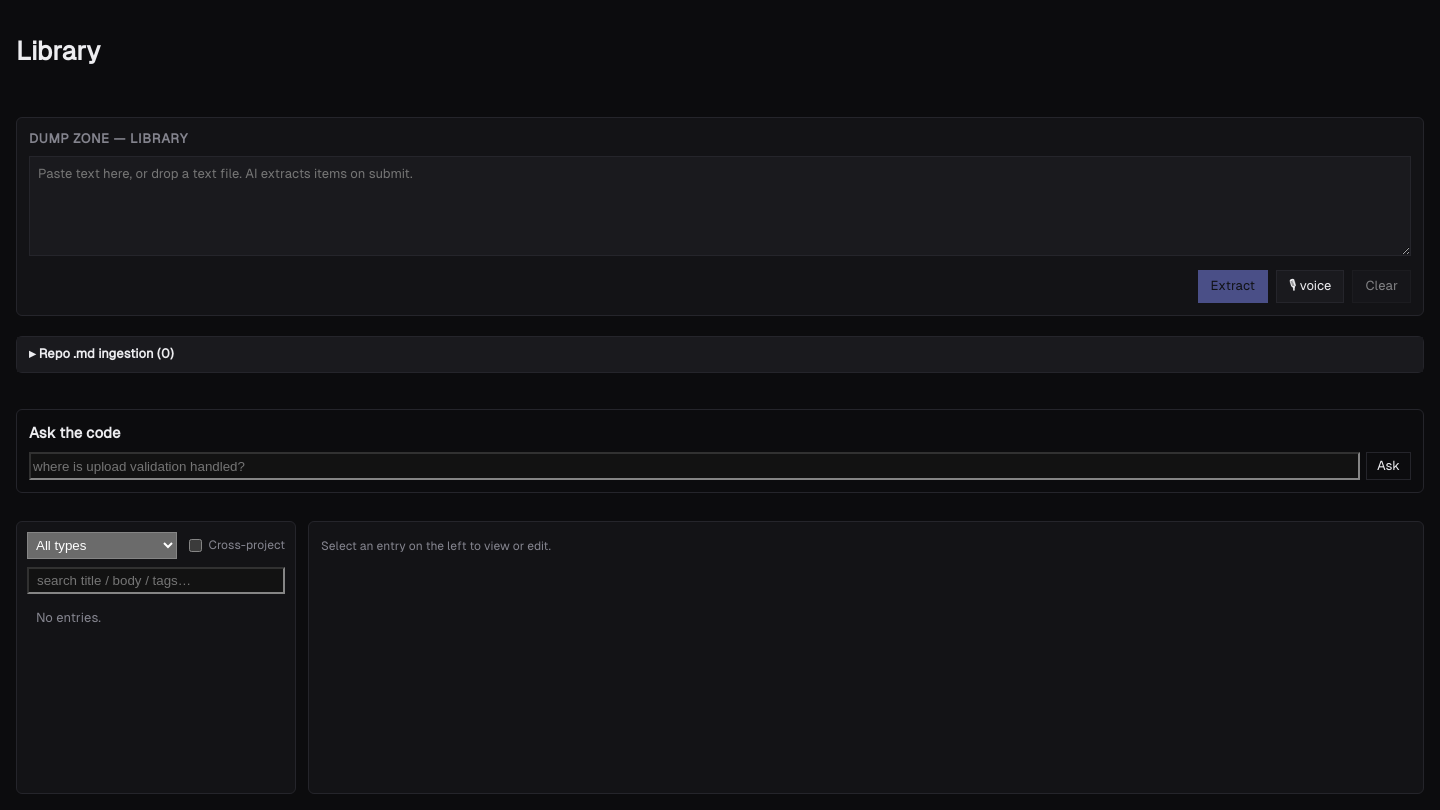
Test: MdFolderManager (Phase 6c) › rejects an out-of-repo folder add with an error message
Click the button with test id "md-folder-toggle" at (98, 354), box [17,337,1423,372]
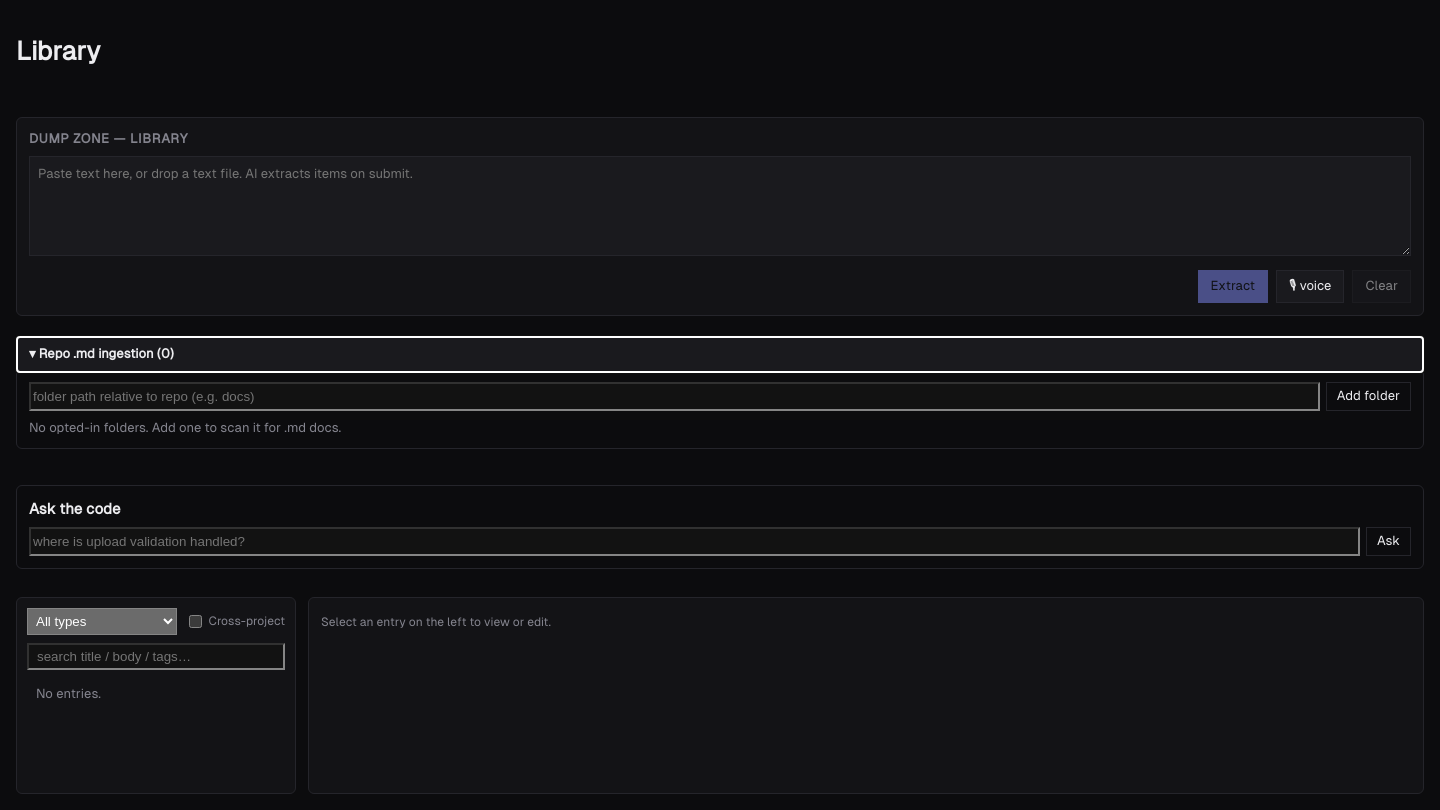
Type "../escape" into the field with test id "md-folder-path-input" at (674, 396), box [29,382,1320,411]
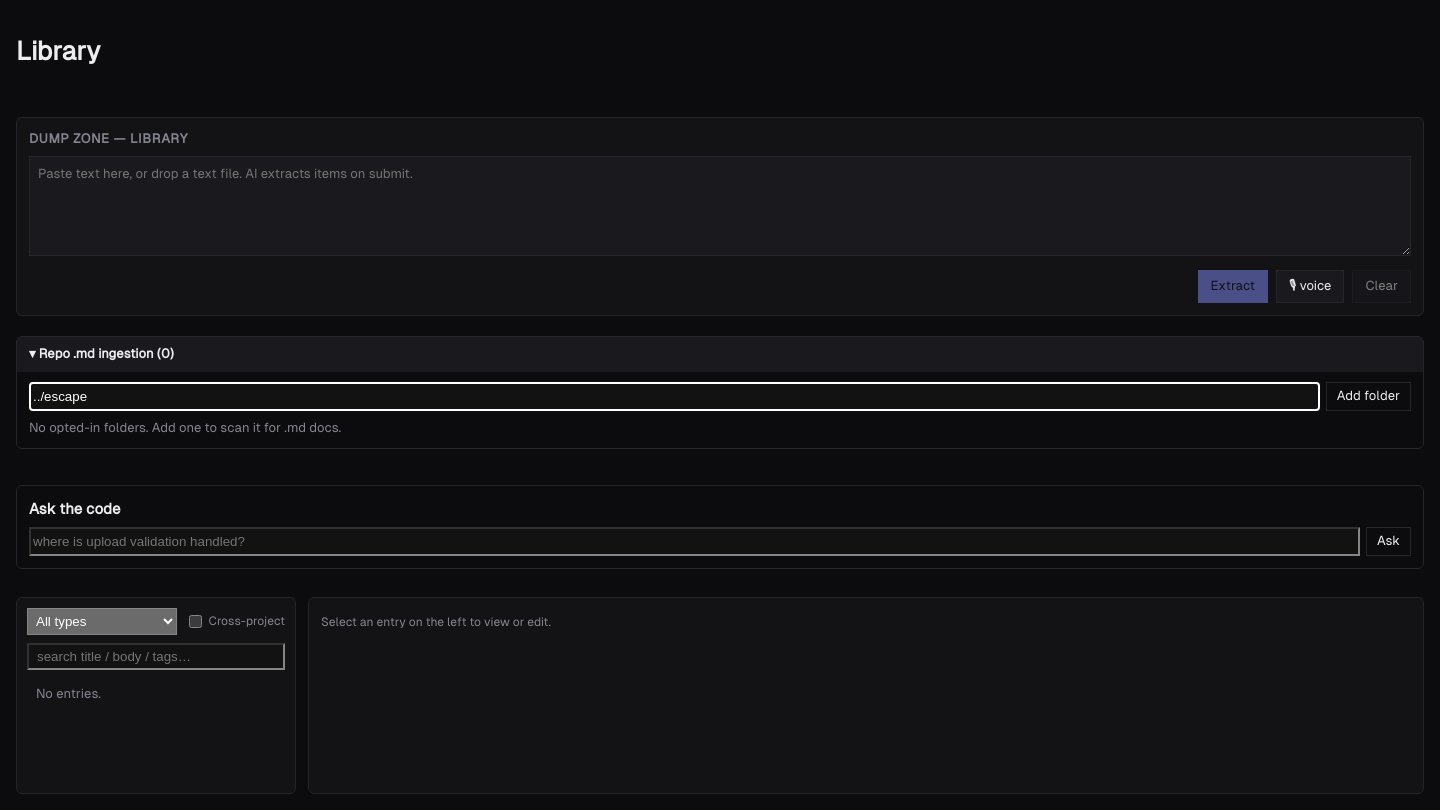
Click the button with test id "md-folder-add-btn" at (1368, 396), box [1326,382,1411,411]
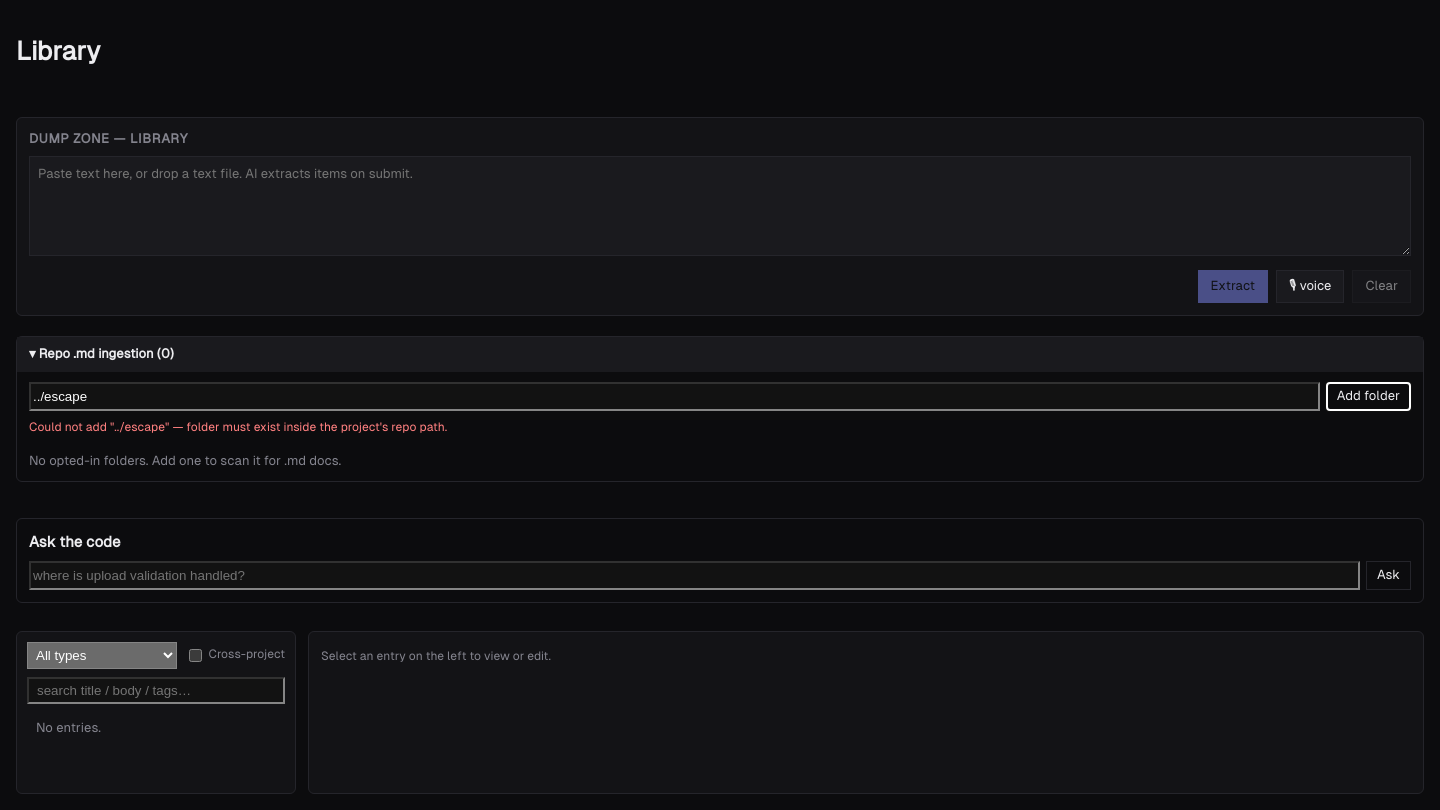
Check: the message "Could not add \"../escape\" — folder must exist inside the project's repo path." is shown, box [29,420,447,434]
